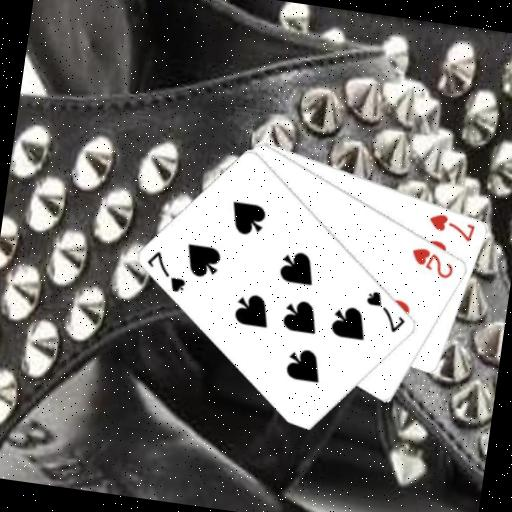2H: (406, 243, 459, 282)
7H: (424, 209, 478, 244)
7S: (359, 286, 412, 336), (140, 247, 192, 296)
